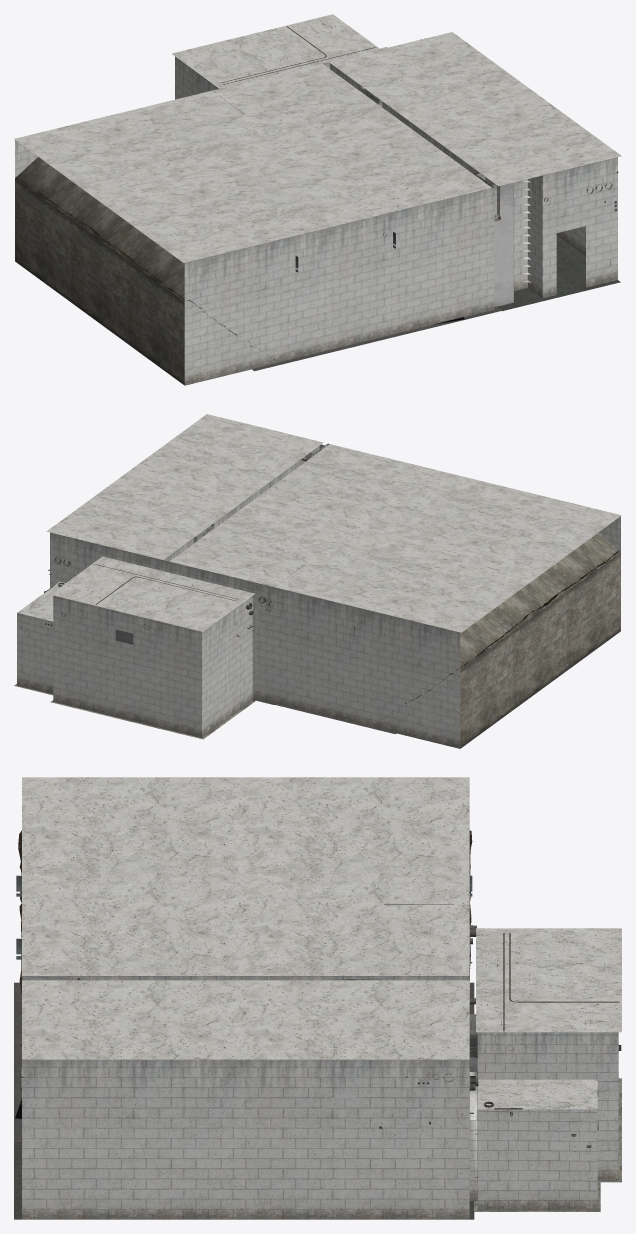
The picture shows the model from 3 angles, top to bottom: view 1: azimuth 30°, elevation 25°; view 2: azimuth 150°, elevation 25°; view 3: azimuth 270°, elevation 25°; orthographic projection. The views are drawn at different scales.
Visible parts, largest first — view 1: LOD_1_Group_0_Sub_1__st3_policeUndergroundCeiling05, LOD_1_Group_0_Sub_15__st3_policeUndergroundWall04, LOD_1_Group_0_Sub_17__st2_police1fLeftWall02, LOD_1_Group_0_Sub_16__st3_policeUndergroundWall05, LOD_1_Group_0_Sub_12__st3_policeUndergroundFloor04, LOD_1_Group_0_Sub_13__st3_policeUndergroundFloor05; view 2: LOD_1_Group_0_Sub_1__st3_policeUndergroundCeiling05, LOD_1_Group_0_Sub_15__st3_policeUndergroundWall04, LOD_1_Group_0_Sub_17__st2_police1fLeftWall02, LOD_1_Group_0_Sub_5__st2_IronPipeDuctCable_A, LOD_1_Group_0_Sub_14__st3_policeUndergroundFloor09; view 3: LOD_1_Group_0_Sub_1__st3_policeUndergroundCeiling05, LOD_1_Group_0_Sub_15__st3_policeUndergroundWall04, LOD_1_Group_0_Sub_13__st3_policeUndergroundFloor05, LOD_1_Group_0_Sub_5__st2_IronPipeDuctCable_A, LOD_1_Group_0_Sub_14__st3_policeUndergroundFloor09, LOD_1_Group_0_Sub_12__st3_policeUndergroundFloor04.
Boxes of the visible parts, <box> form: LOD_1_Group_0_Sub_1__st3_policeUndergroundCeiling05: <box>14,14,621,262</box>; LOD_1_Group_0_Sub_15__st3_policeUndergroundWall04: <box>15,56,617,385</box>; LOD_1_Group_0_Sub_17__st2_police1fLeftWall02: <box>15,157,500,385</box>; LOD_1_Group_0_Sub_16__st3_policeUndergroundWall05: <box>360,87,513,306</box>; LOD_1_Group_0_Sub_12__st3_policeUndergroundFloor04: <box>497,235,620,310</box>; LOD_1_Group_0_Sub_13__st3_policeUndergroundFloor05: <box>252,306,501,371</box>; LOD_1_Group_0_Sub_1__st3_policeUndergroundCeiling05: <box>17,414,621,632</box>; LOD_1_Group_0_Sub_15__st3_policeUndergroundWall04: <box>17,443,620,748</box>; LOD_1_Group_0_Sub_17__st2_police1fLeftWall02: <box>460,532,620,748</box>; LOD_1_Group_0_Sub_5__st2_IronPipeDuctCable_A: <box>20,489,501,644</box>; LOD_1_Group_0_Sub_14__st3_policeUndergroundFloor09: <box>14,684,255,739</box>; LOD_1_Group_0_Sub_1__st3_policeUndergroundCeiling05: <box>22,777,621,1109</box>; LOD_1_Group_0_Sub_15__st3_policeUndergroundWall04: <box>22,976,618,1219</box>; LOD_1_Group_0_Sub_13__st3_policeUndergroundFloor05: <box>14,982,474,1142</box>; LOD_1_Group_0_Sub_5__st2_IronPipeDuctCable_A: <box>20,925,621,1182</box>; LOD_1_Group_0_Sub_14__st3_policeUndergroundFloor09: <box>474,1078,621,1211</box>; LOD_1_Group_0_Sub_12__st3_policeUndergroundFloor04: <box>14,1143,474,1219</box>.
Size of the model in its own units: 15.87 by 4.25 by 14.35.
